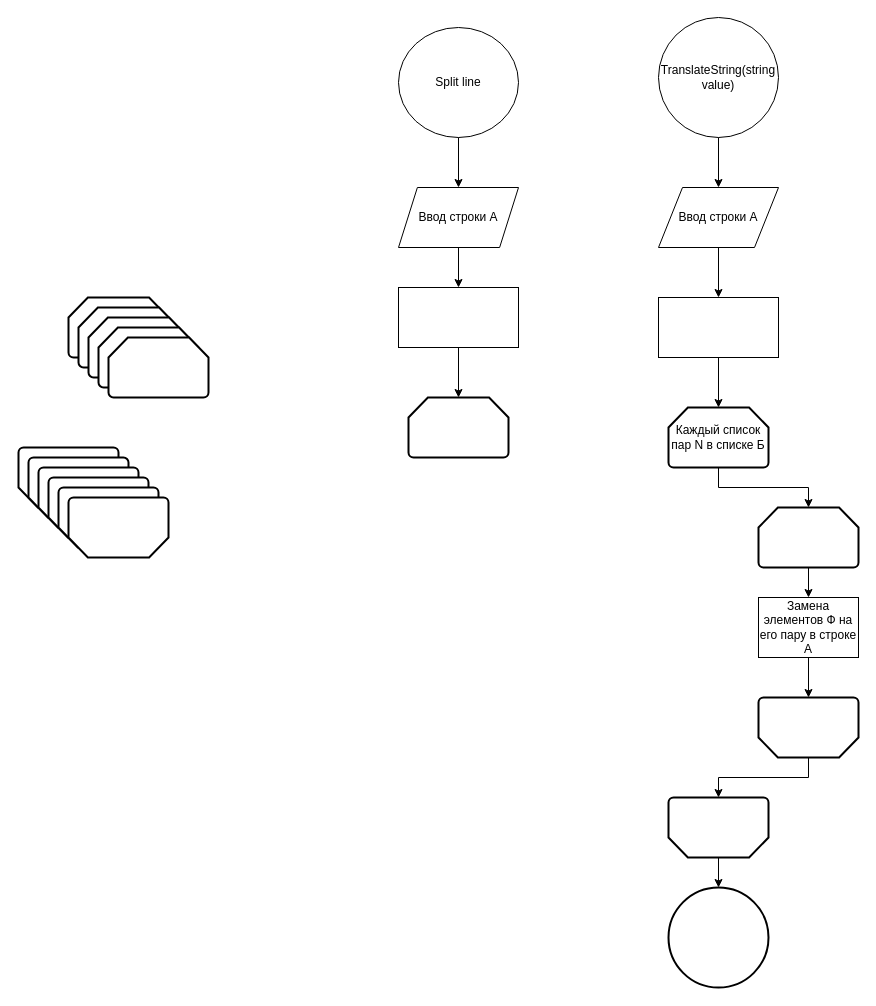
Image size: 876x1006. Some labels were removed from this diagram. Each missing label, with the box of its shape:
Получение списка пар Б: (398, 286, 518, 348)
Получение списков пар "Б": (658, 296, 778, 358)
Элемент Ф в списке пар N: (757, 506, 859, 568)
